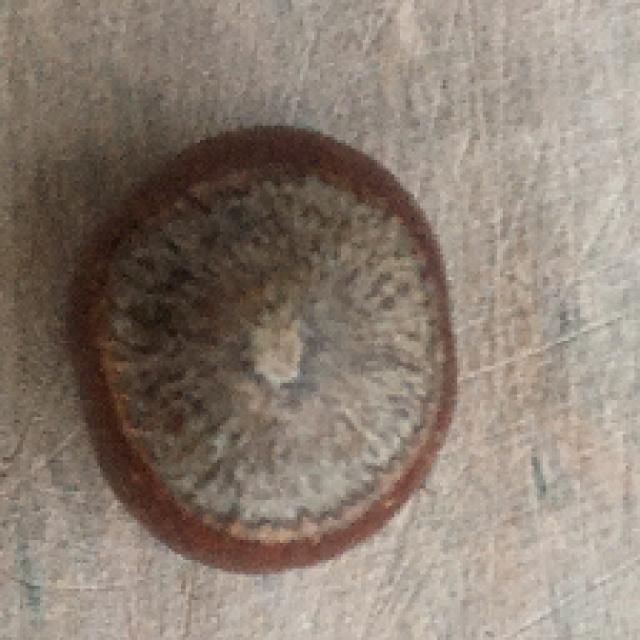DamagedHazelnut: (67, 124, 463, 571)
